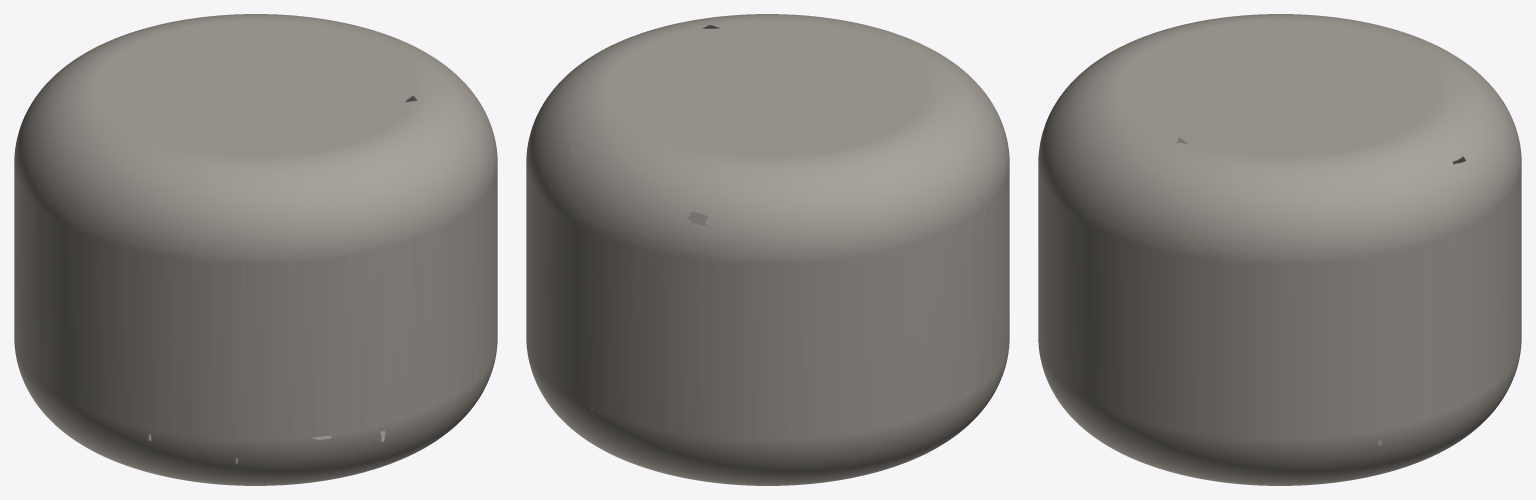
File: stool-transformed.glb
3 views of the same model, side by side, from view 1: azimuth 30°, elevation 25°; view 2: azimuth 150°, elevation 25°; view 3: azimuth 270°, elevation 25° (orthographic).
Visible parts, largest first — view 1: stuff; view 2: stuff; view 3: stuff.
Part boxes in pixels (box(x1,y1,x2,y2)): stuff: box(14, 14, 497, 485); stuff: box(526, 14, 1009, 485); stuff: box(1038, 14, 1521, 485).
Bounding box in the file's own units: 135 × 98.86 × 135.
1 material, 1 textured.
